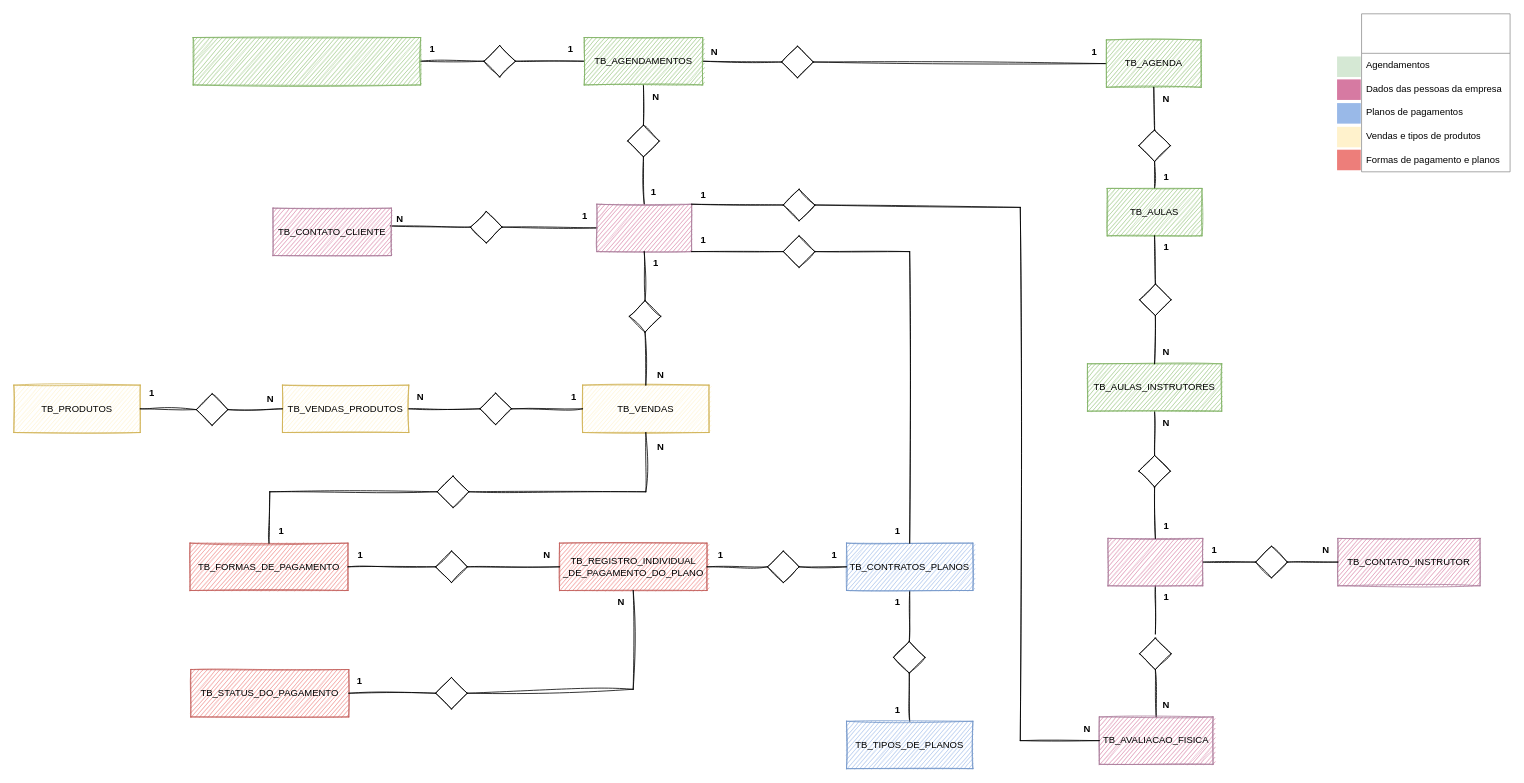
Some shapes in this 1524 by 783 pixel diagram are drawn without their labels. The box of each missing label's shape, as (x1, y1, x2, y2) in pixels:
LEGENDA Tipos de dados: (1361, 13, 1510, 172)
TB_CLIENTES: (596, 203, 692, 252)
TB_INSTRUTORES: (1107, 538, 1203, 586)
TB_REGISTRO_DE_FREQUENCIA_NAS_AULAS: (192, 37, 421, 85)
